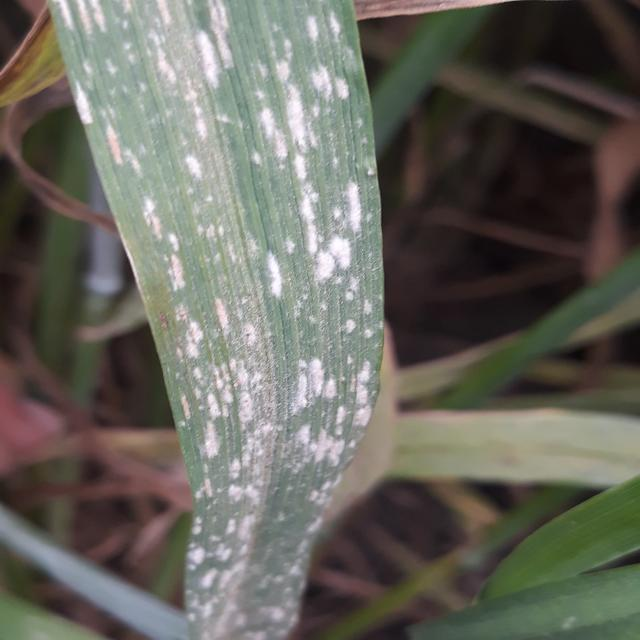powder_mildew: (41, 1, 392, 640)
